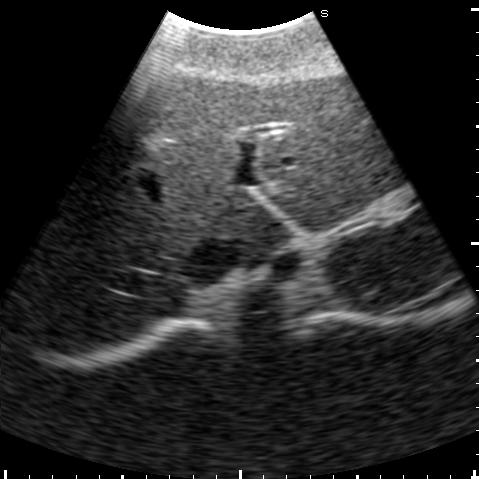IVC: (181, 238, 239, 283)
S1: (221, 205, 290, 259)
S2: (259, 165, 409, 232)
S3: (243, 69, 398, 194)
